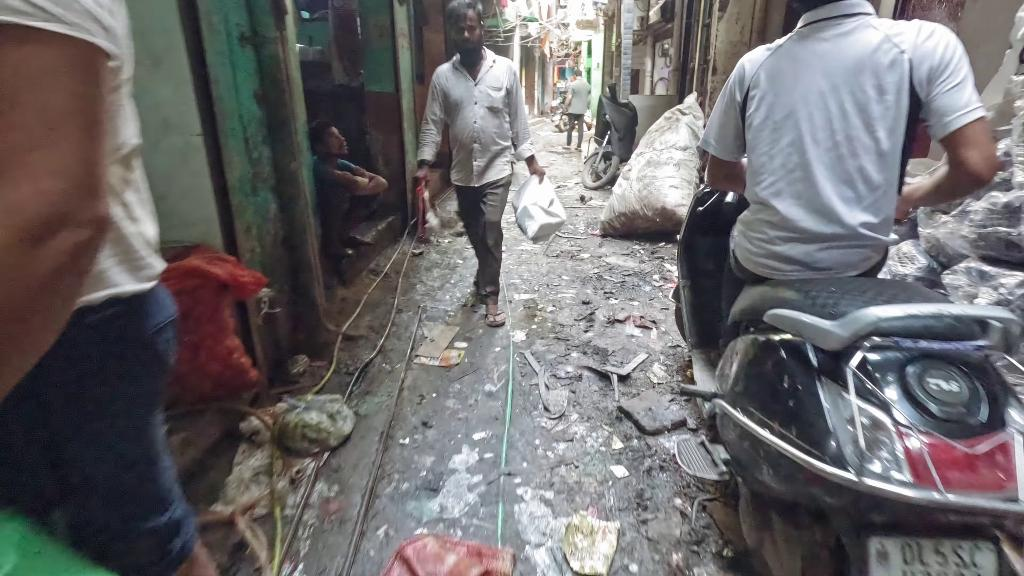garbage: (377, 525, 525, 576), (564, 504, 627, 576), (415, 311, 465, 371)
